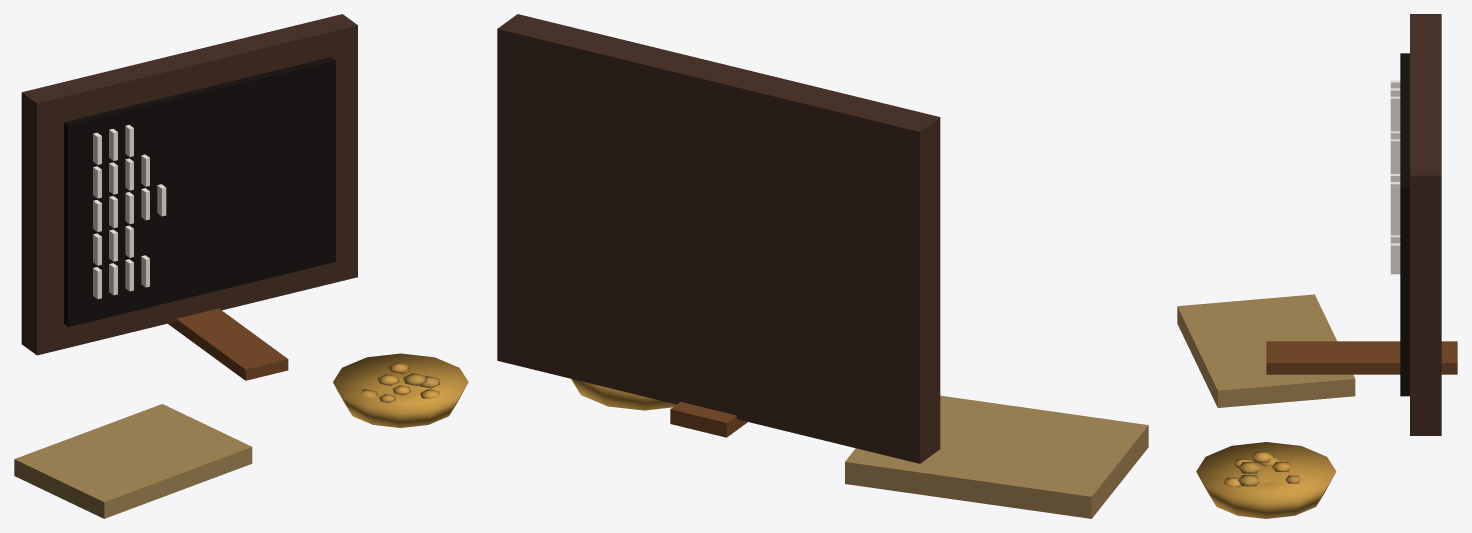
The model's file is PRP_Tally_Board_A.glb.
3 views of the same model, side by side, from view 1: azimuth 30°, elevation 25°; view 2: azimuth 150°, elevation 25°; view 3: azimuth 270°, elevation 25° (orthographic). The views are drawn at different scales.
Parts seen in each view (by area): view 1: PRP_Tally_Board_A_Mesh; view 2: PRP_Tally_Board_A_Mesh; view 3: PRP_Tally_Board_A_Mesh.
Boxes of the visible parts, x1,y1,x2,y2 form: PRP_Tally_Board_A_Mesh: (14, 14, 468, 518); PRP_Tally_Board_A_Mesh: (497, 14, 1148, 518); PRP_Tally_Board_A_Mesh: (1177, 14, 1457, 518).
Bounding box in the file's own units: 0.7887 × 0.575 × 0.4396.
